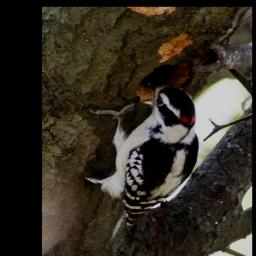Woodpecker: (85, 79, 198, 236)
